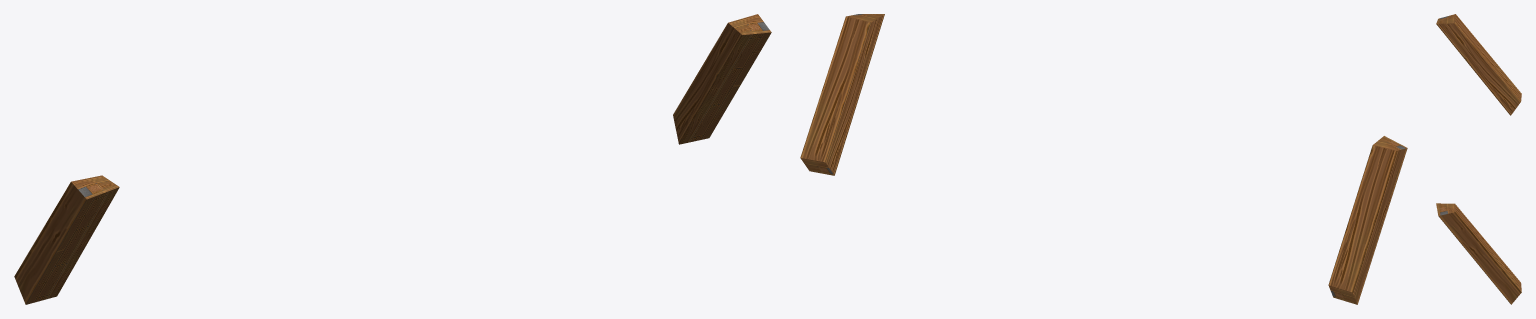
3 views of the same model, side by side, from view 1: azimuth 30°, elevation 25°; view 2: azimuth 150°, elevation 25°; view 3: azimuth 270°, elevation 25° (orthographic). The views are drawn at different scales.
Visible parts, largest first — view 1: Cube.1559; view 2: Cube.1559; view 3: Cube.1559.
Boxes of the visible parts, box(x1,y1,x2,y2) form: Cube.1559: box(14, 14, 771, 304); Cube.1559: box(800, 14, 1407, 304); Cube.1559: box(1436, 14, 1521, 304).
Bounding box in the file's own units: 670 × 147 × 122.
1 material, 1 textured.
